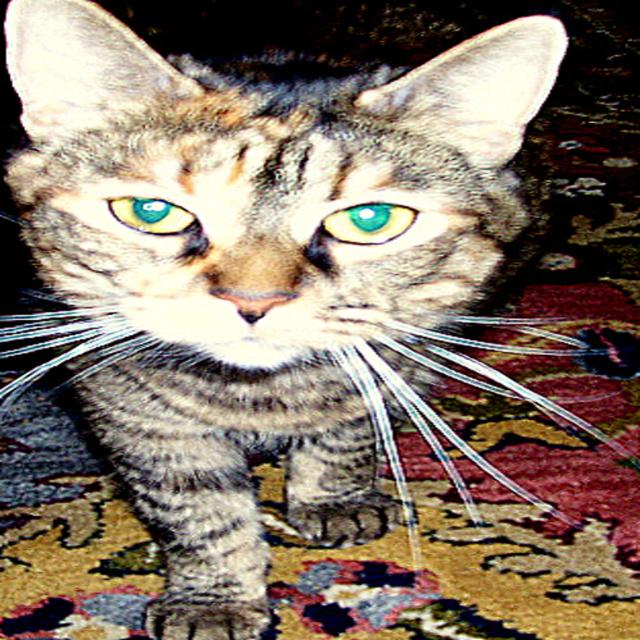Cat: (0, 0, 631, 638)
